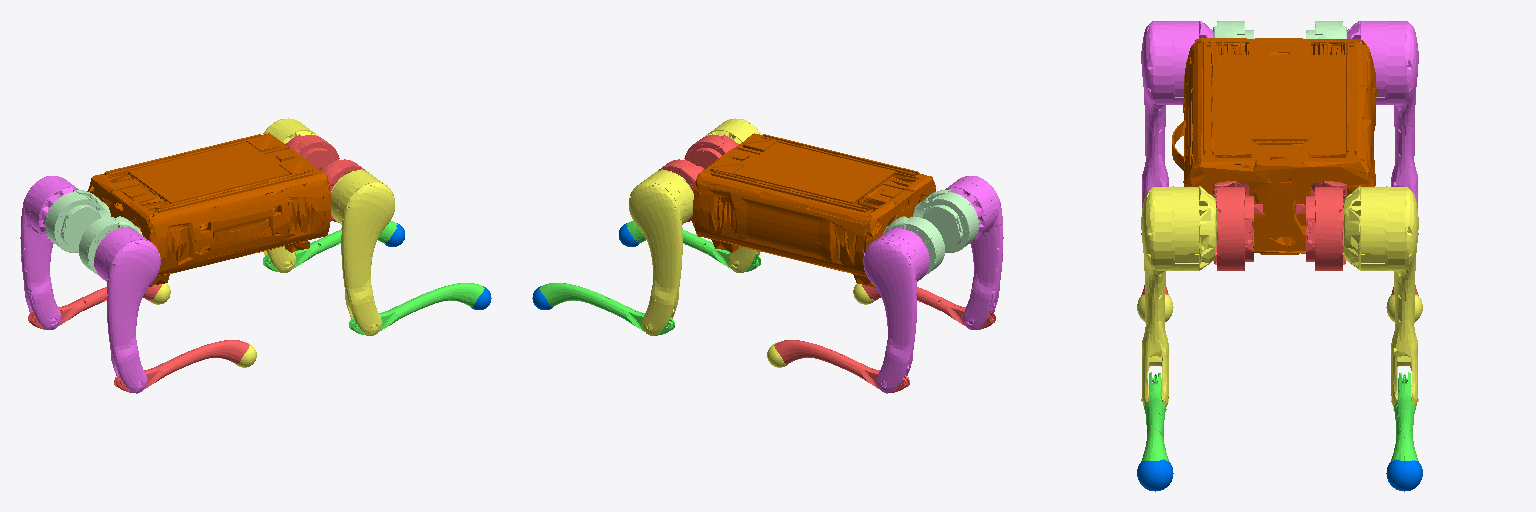
URDF robot description (galileo_v1d6):
<robot name="galileo_v1d6">

  <link name="base_link">
    <inertial>
      <origin xyz="0.0027831 -0.009841 -0.0002665" rpy="0 0 0" />
      <mass value="24.0427431" />
      <inertia ixx="0.1136788" iyy="0.3485644" izz="0.408405" ixy="0.0016372" ixz="0.0001502"
        iyz="3.6e-05" />
    </inertial>
    <visual>
      <origin xyz="0 0 0" rpy="0 0 0" />
      <geometry>
        <mesh filename="package://galileo_v1d6_description/meshes/TRUCK.STL" scale="1 1 1" />
      </geometry>
      <material name="">
        <color rgba="0.8 0.4 0 1" />
      </material>
    </visual>
    <collision>
      <origin xyz="0 0 -0.01" rpy="0 0 0" />
      <geometry>
        <box size="0.42 0.26 0.18" />
      </geometry>
    </collision>
    <!-- template_collision_placeholder -->
  </link>

  <link name="FL_hip">
    <inertial>
      <origin xyz="-0.0034539 0.0001471 -0.0009605" rpy="0 0 0" />
      <mass value="1.6459372" />
      <inertia ixx="0.0004144" iyy="0.000796" izz="0.0005767" ixy="1e-05" ixz="1.5e-06"
        iyz="-1.4e-06" />
    </inertial>
    <visual>
      <origin xyz="0 0 0" rpy="0 0 0" />
      <geometry>
        <mesh filename="package://galileo_v1d6_description/meshes/FL_HIP.STL" scale="1 1 1" />
      </geometry>
      <material name="">
        <color rgba="1 0.4 0.4 1" />
      </material>
    </visual>
    <!-- <collision>
      <origin xyz="0 0 0" rpy="0 0 0"/>
      <geometry>
        <mesh filename="package://galileo_v1d6_description/meshes/FL_HIP.STL" scale="1 1 1"/>
      </geometry>
    </collision> -->
    <!-- template_collision_placeholder -->
  </link>

  <joint name="FL_hip_joint" type="revolute">
    <origin xyz="0.279 0.067 0" rpy="0 0 0" />
    <parent link="base_link" />
    <child link="FL_hip" />
    <axis xyz="1 0 0" />
    <limit lower="-0.698132" upper="0.698132" effort="120" velocity="12.0" />
  </joint>

  <link name="FL_thigh">
    <inertial>
      <origin xyz="-0.0028001 -0.0368096 -0.0239021" rpy="0 0 0" />
      <mass value="2.2115554" />
      <inertia ixx="0.012133" iyy="0.0117725" izz="0.0019164" ixy="0.0002099" ixz="-0.000542"
        iyz="0.0020399" />
    </inertial>
    <visual>
      <origin xyz="0 0 0" rpy="0 0 0" />
      <geometry>
        <mesh filename="package://galileo_v1d6_description/meshes/FL_THIGH.STL" scale="1 1 1" />
      </geometry>
      <material name="">
        <color rgba="1 1 0.4 1" />
      </material>
    </visual>
    <collision>
      <origin xyz="-0.025 0 -0.15" rpy="0 0 0" />
      <geometry>
        <box size="0.05 0.02 0.18" />
      </geometry>
    </collision>
    <collision>
      <origin xyz="0 -0.065 0" rpy="1.57 1.57 0" />
      <geometry>
        <cylinder radius="0.06" length="0.08" />
      </geometry>
    </collision>
    <!-- template_collision_placeholder -->
  </link>

  <joint name="FL_thigh_joint" type="revolute">
    <origin xyz="0 0.1103 0" rpy="0 0 0" />
    <parent link="FL_hip" />
    <child link="FL_thigh" />
    <axis xyz="0 1 0" />
    <limit lower="-1.762783" upper="3.647738" effort="120" velocity="12.0" />
  </joint>

  <link name="FL_calf">
    <inertial>
      <origin xyz="0.006276 6e-05 -0.1458107" rpy="0 0 0" />
      <mass value="0.3248308" />
      <inertia ixx="0.0041942" iyy="0.0042423" izz="9.93e-05" ixy="0" ixz="-3e-07" iyz="0" />
    </inertial>
    <visual>
      <origin xyz="0 0 0" rpy="0 0 0" />
      <geometry>
        <mesh filename="package://galileo_v1d6_description/meshes/FL_CALF.STL" scale="1 1 1" />
      </geometry>
      <material name="">
        <color rgba="0.4 1 0.4 1" />
      </material>
    </visual>
    <collision>
      <origin xyz="0.015 0.0 -0.235" rpy="0 0.5 0" />
      <geometry>
        <box size="0.04 0.02 0.05" />
      </geometry>
    </collision>
    <collision>
      <origin xyz="0.0085 0.0 -0.092" rpy="0 -0.15 0" />
      <geometry>
        <box size="0.032 0.02 0.27" />
      </geometry>
    </collision>
    <!-- template_collision_placeholder -->
  </link>

  <joint name="FL_calf_joint" type="revolute">
    <origin xyz="0 0 -0.26" rpy="0 0 0" />
    <parent link="FL_thigh" />
    <child link="FL_calf" />
    <axis xyz="0 1 0" />
    <limit lower="-2.740167" upper="-0.383972" effort="120" velocity="12.0" />
  </joint>

  <link name="FL_foot">
    <inertial>
      <origin xyz="0 0 0" rpy="0 0 0" />
      <mass value="0.04" />
      <inertia ixx="9.6e-06" ixy="0" ixz="0" iyy="9.6e-06" iyz="0" izz="9.6e-06" />
    </inertial>
    <visual>
      <origin xyz="0 0 0" rpy="0 0 0" />
      <geometry>
        <sphere radius="0.026" />
      </geometry>
      <material name="">
        <color rgba="0 0.5 1 1" />
      </material>
    </visual>
    <collision>
      <origin xyz="0 0 0" rpy="0 0 0" />
      <geometry>
        <sphere radius="0.026" />
      </geometry>
    </collision>
    <!-- template_collision_placeholder -->
  </link>

  <joint name="FL_foot_joint" type="fixed" dont_collapse="true">
    <origin xyz="0 0 -0.26" rpy="0 0 0" />
    <parent link="FL_calf" />
    <child link="FL_foot" />
    <axis xyz="0 1 0" />
    <limit lower="0" upper="0" effort="0" velocity="0" />
  </joint>

  <link name="RL_hip">
    <inertial>
      <origin xyz="-0.0034539 0.0001471 -0.0009605" rpy="0 0 0" />
      <mass value="1.6459372" />
      <inertia ixx="0.0004144" iyy="0.000796" izz="0.0005767" ixy="-1e-05" ixz="-1.5e-06"
        iyz="-1.4e-06" />
    </inertial>
    <visual>
      <origin xyz="0 0 0" rpy="0 0 0" />
      <geometry>
        <mesh filename="package://galileo_v1d6_description/meshes/RL_HIP.STL" scale="1 1 1" />
      </geometry>
      <material name="">
        <color rgba="0.8 1.0 0.8 1" />
      </material>
    </visual>
    <!-- <collision>
      <origin xyz="0 0 0" rpy="0 0 0"/>
      <geometry>
        <mesh filename="package://galileo_v1d6_description/meshes/RL_HIP.STL" scale="1 1 1"/>
      </geometry>
    </collision> -->
    <!-- template_collision_placeholder -->
  </link>

  <joint name="RL_hip_joint" type="revolute">
    <origin xyz="-0.279 0.067 0" rpy="0 0 0" />
    <parent link="base_link" />
    <child link="RL_hip" />
    <axis xyz="1 0 0" />
    <limit lower="-0.698132" upper="0.698132" effort="120" velocity="12.0" />
  </joint>

  <link name="RL_thigh">
    <inertial>
      <origin xyz="-0.0028001 -0.0368096 -0.0239021" rpy="0 0 0" />
      <mass value="2.2115554" />
      <inertia ixx="0.012133" iyy="0.0117725" izz="0.0019164" ixy="0.0002099" ixz="-0.000542"
        iyz="0.0020399" />
    </inertial>
    <visual>
      <origin xyz="0 0 0" rpy="0 0 0" />
      <geometry>
        <mesh filename="package://galileo_v1d6_description/meshes/FL_THIGH.STL" scale="1 1 1" />
      </geometry>
      <material name="">
        <color rgba="1 0.5 1 1" />
      </material>
    </visual>
    <collision>
      <origin xyz="-0.025 0 -0.15" rpy="0 0 0" />
      <geometry>
        <box size="0.05 0.02 0.18" />
      </geometry>
    </collision>
    <collision>
      <origin xyz="0 -0.065 0" rpy="1.57 1.57 0" />
      <geometry>
        <cylinder radius="0.06" length="0.08" />
      </geometry>
    </collision>
    <!-- template_collision_placeholder -->
  </link>

  <joint name="RL_thigh_joint" type="revolute">
    <origin xyz="0 0.1103 0" rpy="0 0 0" />
    <parent link="RL_hip" />
    <child link="RL_thigh" />
    <axis xyz="0 1 0" />
    <limit lower="-1.762783" upper="3.647738" effort="120" velocity="12.0" />
  </joint>

  <link name="RL_calf">
    <inertial>
      <origin xyz="0.006276 6e-05 -0.1458107" rpy="0 0 0" />
      <mass value="0.3248308" />
      <inertia ixx="0.0041942" iyy="0.0042423" izz="9.93e-05" ixy="0" ixz="-3e-07" iyz="0" />
    </inertial>
    <visual>
      <origin xyz="0 0 0" rpy="0 0 0" />
      <geometry>
        <mesh filename="package://galileo_v1d6_description/meshes/FL_CALF.STL" scale="1 1 1" />
      </geometry>
      <material name="">
        <color rgba="1 0.4 0.4 1" />
      </material>
    </visual>
    <collision>
      <origin xyz="0.015 0.0 -0.235" rpy="0 0.5 0" />
      <geometry>
        <box size="0.04 0.02 0.05" />
      </geometry>
    </collision>
    <collision>
      <origin xyz="0.0085 0.0 -0.092" rpy="0 -0.15 0" />
      <geometry>
        <box size="0.032 0.02 0.27" />
      </geometry>
    </collision>
    <!-- template_collision_placeholder -->
  </link>

  <joint name="RL_calf_joint" type="revolute">
    <origin xyz="0 0 -0.26" rpy="0 0 0" />
    <parent link="RL_thigh" />
    <child link="RL_calf" />
    <axis xyz="0 1 0" />
    <limit lower="-2.740167" upper="-0.383972" effort="120" velocity="12.0" />
  </joint>

  <link name="RL_foot">
    <inertial>
      <origin xyz="0 0 0" rpy="0 0 0" />
      <mass value="0.04" />
      <inertia ixx="9.6e-06" ixy="0" ixz="0" iyy="9.6e-06" iyz="0" izz="9.6e-06" />
    </inertial>
    <visual>
      <origin xyz="0 0 0" rpy="0 0 0" />
      <geometry>
        <sphere radius="0.026" />
      </geometry>
      <material name="">
        <color rgba="1 1 0.4 1" />
      </material>
    </visual>
    <collision>
      <origin xyz="0 0 0" rpy="0 0 0" />
      <geometry>
        <sphere radius="0.026" />
      </geometry>
    </collision>
    <!-- template_collision_placeholder -->
  </link>

  <joint name="RL_foot_joint" type="fixed" dont_collapse="true">
    <origin xyz="0 0 -0.26" rpy="0 0 0" />
    <parent link="RL_calf" />
    <child link="RL_foot" />
    <axis xyz="0 1 0" />
    <limit lower="0" upper="0" effort="0" velocity="0" />
  </joint>

  <link name="FR_hip">
    <inertial>
      <origin xyz="-0.0034539 -0.0001471 -0.0009605" rpy="0 0 0" />
      <mass value="1.6459372" />
      <inertia ixx="0.0004144" iyy="0.000796" izz="0.0005767" ixy="-1e-05" ixz="1.5e-06"
        iyz="1.4e-06" />
    </inertial>
    <visual>
      <origin xyz="0 0 0" rpy="0 0 0" />
      <geometry>
        <mesh filename="package://galileo_v1d6_description/meshes/FL_HIP.STL" scale="1.0 -1.0 1.0" />
      </geometry>
      <material name="">
        <color rgba="1 0.4 0.4 1" />
      </material>
    </visual>
    <!-- <collision>
      <origin xyz="0 0 0" rpy="0 0 0"/>
      <geometry>
        <mesh filename="package://galileo_v1d6_description/meshes/FL_HIP.STL" scale="1.0 -1.0 1.0"/>
      </geometry>
    </collision> -->
    <!-- template_collision_placeholder -->
  </link>

  <joint name="FR_hip_joint" type="revolute">
    <origin xyz="0.279 -0.067 0.0" rpy="-0.0 0.0 -0.0" />
    <parent link="base_link" />
    <child link="FR_hip" />
    <axis xyz="1 0 0" />
    <limit lower="-0.698132" upper="0.698132" effort="120" velocity="12.0" />
  </joint>

  <link name="FR_thigh">
    <inertial>
      <origin xyz="-0.0028001 0.0368096 -0.0239021" rpy="0 0 0" />
      <mass value="2.2115554" />
      <inertia ixx="0.012133" iyy="0.0117725" izz="0.0019164" ixy="-0.0002099" ixz="-0.000542"
        iyz="-0.0020399" />
    </inertial>
    <visual>
      <origin xyz="0 0 0" rpy="0 0 0" />
      <geometry>
        <mesh filename="package://galileo_v1d6_description/meshes/FL_THIGH.STL" scale="1.0 -1.0 1.0" />
      </geometry>
      <material name="">
        <color rgba="1 1 0.4 1" />
      </material>
    </visual>
    <collision>
      <origin xyz="-0.025 0 -0.15" rpy="0 0 0" />
      <geometry>
        <box size="0.05 0.02 0.18" />
      </geometry>
    </collision>
    <collision>
      <origin xyz="0 0.065 0" rpy="1.57 1.57 0" />
      <geometry>
        <cylinder radius="0.06" length="0.08" />
      </geometry>
    </collision>
    <!-- template_collision_placeholder -->
  </link>

  <joint name="FR_thigh_joint" type="revolute">
    <origin xyz="0.0 -0.1103 0.0" rpy="-0.0 0.0 -0.0" />
    <parent link="FR_hip" />
    <child link="FR_thigh" />
    <axis xyz="0 1 0" />
    <limit lower="-1.762783" upper="3.647738" effort="120" velocity="12.0" />
  </joint>

  <link name="FR_calf">
    <inertial>
      <origin xyz="0.006276 -6e-05 -0.1458107" rpy="0 0 0" />
      <mass value="0.3248308" />
      <inertia ixx="0.0041942" iyy="0.0042423" izz="9.93e-05" ixy="-0.0" ixz="-3e-07" iyz="-0.0" />
    </inertial>
    <visual>
      <origin xyz="0 0 0" rpy="0 0 0" />
      <geometry>
        <mesh filename="package://galileo_v1d6_description/meshes/FL_CALF.STL" scale="1.0 -1.0 1.0" />
      </geometry>
      <material name="">
        <color rgba="0.4 1 0.4 1" />
      </material>
    </visual>
    <collision>
      <origin xyz="0.015 0.0 -0.235" rpy="0 0.5 0" />
      <geometry>
        <box size="0.04 0.02 0.05" />
      </geometry>
    </collision>
    <collision>
      <origin xyz="0.0085 0.0 -0.092" rpy="0 -0.15 0" />
      <geometry>
        <box size="0.032 0.02 0.27" />
      </geometry>
    </collision>
    <!-- template_collision_placeholder -->
  </link>

  <joint name="FR_calf_joint" type="revolute">
    <origin xyz="0.0 -0.0 -0.26" rpy="-0.0 0.0 -0.0" />
    <parent link="FR_thigh" />
    <child link="FR_calf" />
    <axis xyz="0 1 0" />
    <limit lower="-2.740167" upper="-0.383972" effort="120" velocity="12.0" />
  </joint>

  <link name="FR_foot">
    <inertial>
      <origin xyz="0 0 0" rpy="0 0 0" />
      <mass value="0.04" />
      <inertia ixx="9.6e-06" ixy="0" ixz="0" iyy="9.6e-06" iyz="0" izz="9.6e-06" />
    </inertial>
    <visual>
      <origin xyz="0 0 0" rpy="0 0 0" />
      <geometry>
        <sphere radius="0.026" />
      </geometry>
      <material name="">
        <color rgba="0 0.5 1 1" />
      </material>
    </visual>
    <collision>
      <origin xyz="0 0 0" rpy="0 0 0" />
      <geometry>
        <sphere radius="0.026" />
      </geometry>
    </collision>
    <!-- template_collision_placeholder -->
  </link>

  <joint name="FR_foot_joint" type="fixed" dont_collapse="true">
    <origin xyz="0.0 -0.0 -0.26" rpy="-0.0 0.0 -0.0" />
    <parent link="FR_calf" />
    <child link="FR_foot" />
    <axis xyz="0 1 0" />
    <limit lower="0" upper="0" effort="0" velocity="0" />
  </joint>

  <link name="RR_hip">
    <inertial>
      <origin xyz="-0.0034539 -0.0001471 -0.0009605" rpy="0 0 0" />
      <mass value="1.6459372" />
      <inertia ixx="0.0004144" iyy="0.000796" izz="0.0005767" ixy="1e-05" ixz="-1.5e-06"
        iyz="1.4e-06" />
    </inertial>
    <visual>
      <origin xyz="0 0 0" rpy="0 0 0" />
      <geometry>
        <mesh filename="package://galileo_v1d6_description/meshes/RL_HIP.STL" scale="1.0 -1.0 1.0" />
      </geometry>
      <material name="">
        <color rgba="0.8 1.0 0.8 1" />
      </material>
    </visual>
    <!-- <collision>
      <origin xyz="0 0 0" rpy="0 0 0"/>
      <geometry>
        <mesh filename="package://galileo_v1d6_description/meshes/RL_HIP.STL" scale="1.0 -1.0 1.0"/>
      </geometry>
    </collision> -->
    <!-- template_collision_placeholder -->
  </link>

  <joint name="RR_hip_joint" type="revolute">
    <origin xyz="-0.279 -0.067 0.0" rpy="-0.0 0.0 -0.0" />
    <parent link="base_link" />
    <child link="RR_hip" />
    <axis xyz="1 0 0" />
    <limit lower="-0.698132" upper="0.698132" effort="120" velocity="12.0" />
  </joint>

  <link name="RR_thigh">
    <inertial>
      <origin xyz="-0.0028001 0.0368096 -0.0239021" rpy="0 0 0" />
      <mass value="2.2115554" />
      <inertia ixx="0.012133" iyy="0.0117725" izz="0.0019164" ixy="-0.0002099" ixz="-0.000542"
        iyz="-0.0020399" />
    </inertial>
    <visual>
      <origin xyz="0 0 0" rpy="0 0 0" />
      <geometry>
        <mesh filename="package://galileo_v1d6_description/meshes/FL_THIGH.STL" scale="1.0 -1.0 1.0" />
      </geometry>
      <material name="">
        <color rgba="1 0.5 1 1" />
      </material>
    </visual>
    <collision>
      <origin xyz="-0.025 0 -0.15" rpy="0 0 0" />
      <geometry>
        <box size="0.05 0.02 0.18" />
      </geometry>
    </collision>
    <collision>
      <origin xyz="0 0.065 0" rpy="1.57 1.57 0" />
      <geometry>
        <cylinder radius="0.06" length="0.08" />
      </geometry>
    </collision>
    <!-- template_collision_placeholder -->
  </link>

  <joint name="RR_thigh_joint" type="revolute">
    <origin xyz="0.0 -0.1103 0.0" rpy="-0.0 0.0 -0.0" />
    <parent link="RR_hip" />
    <child link="RR_thigh" />
    <axis xyz="0 1 0" />
    <limit lower="-1.762783" upper="3.647738" effort="120" velocity="12.0" />
  </joint>

  <link name="RR_calf">
    <inertial>
      <origin xyz="0.006276 -6e-05 -0.1458107" rpy="0 0 0" />
      <mass value="0.3248308" />
      <inertia ixx="0.0041942" iyy="0.0042423" izz="9.93e-05" ixy="-0.0" ixz="-3e-07" iyz="-0.0" />
    </inertial>
    <visual>
      <origin xyz="0 0 0" rpy="0 0 0" />
      <geometry>
        <mesh filename="package://galileo_v1d6_description/meshes/FL_CALF.STL" scale="1.0 -1.0 1.0" />
      </geometry>
      <material name="">
        <color rgba="1 0.4 0.4 1" />
      </material>
    </visual>
    <collision>
      <origin xyz="0.015 0.0 -0.235" rpy="0 0.5 0" />
      <geometry>
        <box size="0.04 0.02 0.05" />
      </geometry>
    </collision>
    <collision>
      <origin xyz="0.0085 0.0 -0.092" rpy="0 -0.15 0" />
      <geometry>
        <box size="0.032 0.02 0.27" />
      </geometry>
    </collision>
    <!-- template_collision_placeholder -->
  </link>

  <joint name="RR_calf_joint" type="revolute">
    <origin xyz="0.0 -0.0 -0.26" rpy="-0.0 0.0 -0.0" />
    <parent link="RR_thigh" />
    <child link="RR_calf" />
    <axis xyz="0 1 0" />
    <limit lower="-2.740167" upper="-0.383972" effort="120" velocity="12.0" />
  </joint>

  <link name="RR_foot">
    <inertial>
      <origin xyz="0 0 0" rpy="0 0 0" />
      <mass value="0.04" />
      <inertia ixx="9.6e-06" ixy="0" ixz="0" iyy="9.6e-06" iyz="0" izz="9.6e-06" />
    </inertial>
    <visual>
      <origin xyz="0 0 0" rpy="0 0 0" />
      <geometry>
        <sphere radius="0.026" />
      </geometry>
      <material name="">
        <color rgba="1 1 0.4 1" />
      </material>
    </visual>
    <collision>
      <origin xyz="0 0 0" rpy="0 0 0" />
      <geometry>
        <sphere radius="0.026" />
      </geometry>
    </collision>
    <!-- template_collision_placeholder -->
  </link>

  <joint name="RR_foot_joint" type="fixed" dont_collapse="true">
    <origin xyz="0.0 -0.0 -0.26" rpy="-0.0 0.0 -0.0" />
    <parent link="RR_calf" />
    <child link="RR_foot" />
    <axis xyz="0 1 0" />
    <limit lower="0" upper="0" effort="0" velocity="0" />
  </joint>

  <!-- urdf auto generate tool -->
</robot>

--- Render facts (derived) ---
The picture shows the robot from 3 angles, left to right: view 1: azimuth 30°, elevation 25°; view 2: azimuth 150°, elevation 25°; view 3: azimuth 270°, elevation 25°; orthographic projection.
Model galileo_v1d6 with 17 links and 16 joints (12 revolute, 4 fixed), rooted at base_link, posed all joints at 0 but 4 set to mid-range because 0 is outside their limits (FL_calf_joint = -1.56, RL_calf_joint = -1.56, FR_calf_joint = -1.56, RR_calf_joint = -1.56).
Visible links, largest first — view 1: base_link, RR_thigh, FR_thigh, RL_thigh, RL_hip, RR_calf, FR_calf, FL_thigh, RR_hip, FL_hip, FL_calf, RL_calf (+1 smaller); view 2: base_link, RL_thigh, FL_thigh, RR_thigh, RR_hip, RL_calf, FL_calf, FR_thigh, RL_hip, FR_hip, FR_calf, RR_calf (+1 smaller); view 3: base_link, FL_thigh, FR_thigh, RL_thigh, RR_thigh, FL_hip, FR_hip, FL_calf, FR_calf, FL_foot, FR_foot, RL_hip (+1 smaller).
Link boxes in pixels (left/top/right/bottom): base_link: left=87, top=133, right=330, bottom=286; RR_thigh: left=94, top=227, right=160, bottom=393; FR_thigh: left=331, top=169, right=394, bottom=335; RL_thigh: left=20, top=176, right=78, bottom=329; RL_hip: left=45, top=190, right=110, bottom=252; RR_calf: left=114, top=340, right=249, bottom=392; FR_calf: left=349, top=283, right=484, bottom=335; FL_thigh: left=263, top=118, right=317, bottom=272; RR_hip: left=79, top=216, right=142, bottom=274; FL_hip: left=285, top=134, right=339, bottom=168; FL_calf: left=263, top=221, right=397, bottom=272; RL_calf: left=28, top=284, right=161, bottom=329; base_link: left=692, top=133, right=935, bottom=287; RL_thigh: left=863, top=227, right=929, bottom=393; FL_thigh: left=629, top=169, right=693, bottom=335; RR_thigh: left=945, top=176, right=1003, bottom=329; RR_hip: left=913, top=190, right=978, bottom=252; RL_calf: left=774, top=340, right=909, bottom=392; FL_calf: left=539, top=283, right=674, bottom=335; FR_thigh: left=706, top=118, right=760, bottom=272; RL_hip: left=883, top=216, right=944, bottom=274; FR_hip: left=684, top=134, right=738, bottom=168; FR_calf: left=626, top=221, right=760, bottom=272; RR_calf: left=862, top=285, right=995, bottom=329; base_link: left=1172, top=38, right=1376, bottom=254; FL_thigh: left=1343, top=186, right=1418, bottom=406; FR_thigh: left=1141, top=186, right=1216, bottom=406; RL_thigh: left=1347, top=21, right=1418, bottom=234; RR_thigh: left=1141, top=21, right=1212, bottom=234; FL_hip: left=1295, top=181, right=1346, bottom=270; FR_hip: left=1213, top=181, right=1264, bottom=270; FL_calf: left=1391, top=372, right=1417, bottom=460; FR_calf: left=1142, top=372, right=1168, bottom=460; FL_foot: left=1386, top=459, right=1422, bottom=491; FR_foot: left=1137, top=459, right=1173, bottom=491; RL_hip: left=1306, top=21, right=1346, bottom=38.
Size in the robot's own frame: 0.9097 by 0.4066 by 0.3665 metres.
13 mesh visuals loaded from 5 distinct referenced files (5 binary STL).
